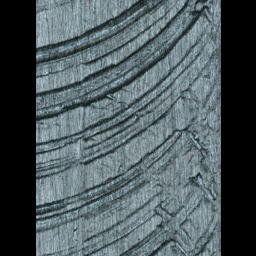d: (37, 2, 220, 256)
